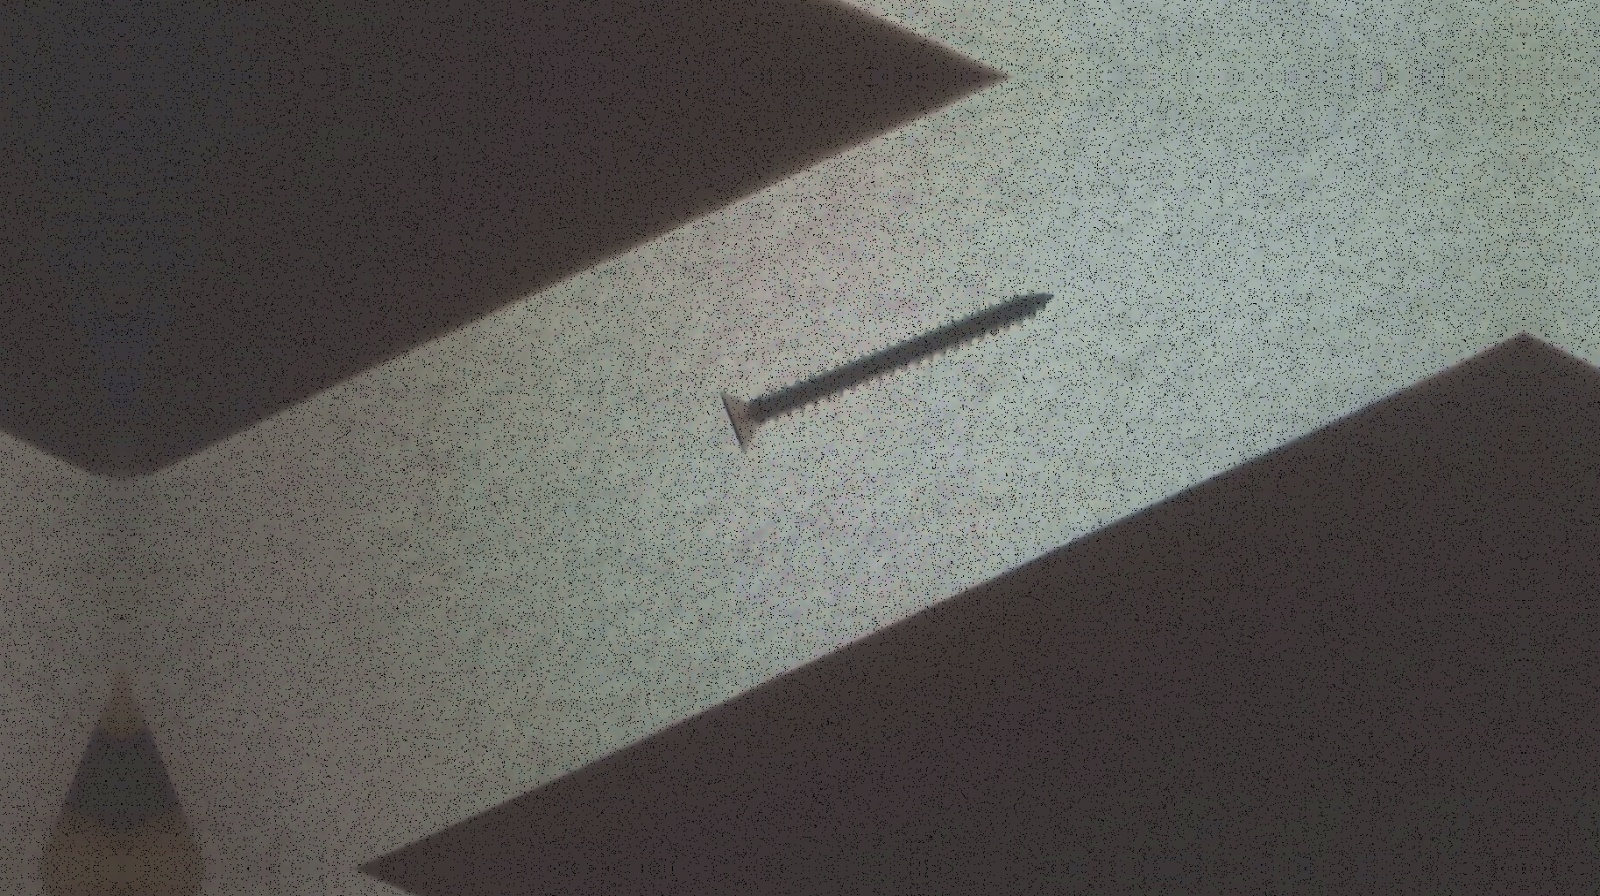S002: (705, 274, 1055, 455)
